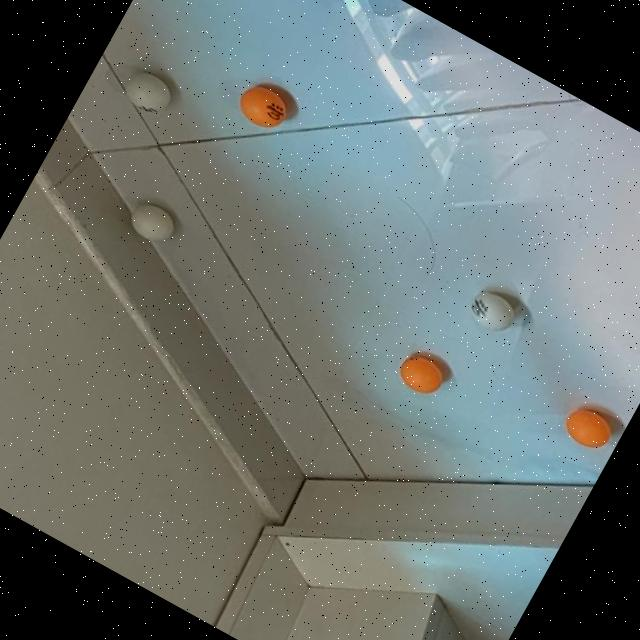ping-pong-ball: (231, 76, 291, 134), (391, 346, 449, 401), (119, 63, 176, 118), (462, 284, 520, 338), (122, 195, 180, 248), (559, 401, 615, 454)
